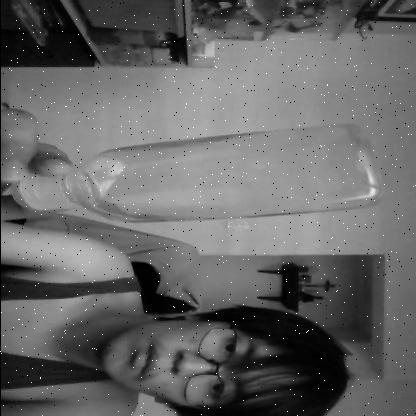Plastic Bottle: (9, 123, 383, 226)
